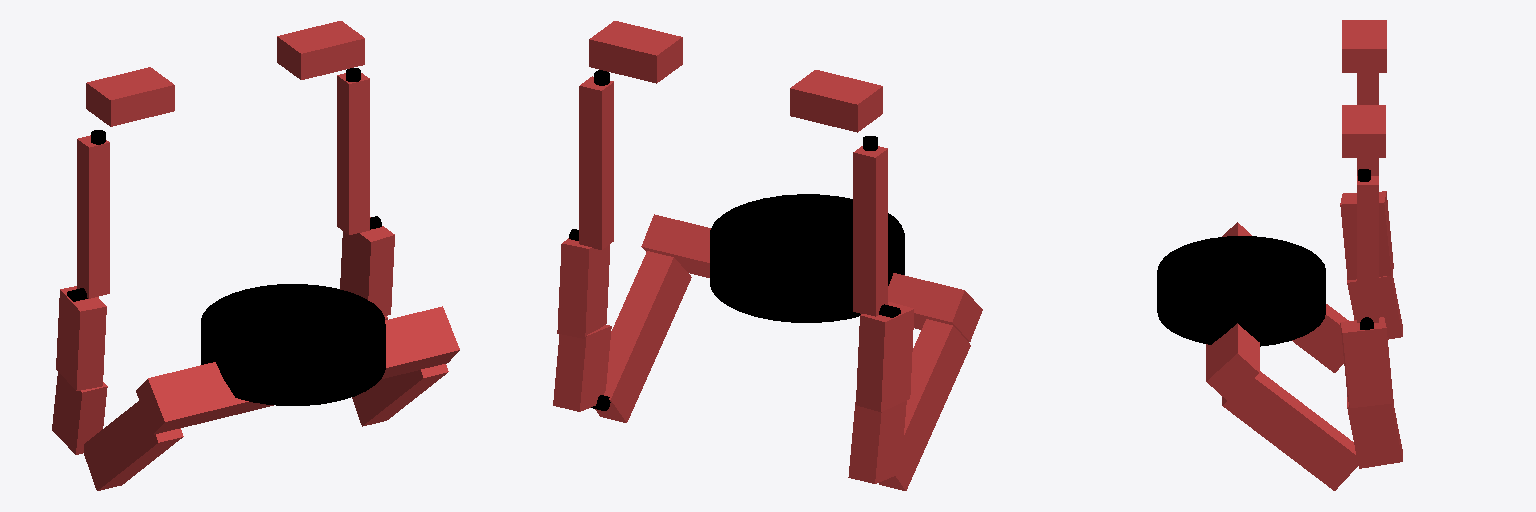
robot.urdf — guardianXO_v1:
<?xml version="1.0"?>
<robot name="guardianXO_v1">
  <link name="pelvis">
    <inertial>
      <origin rpy="0 -1.5708 0" xyz="0.00115 0.02425 0.00012"/>
      <mass value="12.8142"/>
      <inertia ixx="0.086831" ixy="-9.8e-05" ixz="-1.4e-06" iyy="0.12768" iyz="-0.019368" izz="0.12709"/>
    </inertial>
    <visual><!--pelvis_visual_box-->
      <origin rpy="0.7854 0 0" xyz="0 -0.02 0"/>
      <geometry>
        <box size="0.7 0.1 0.07"/>
      </geometry>
      <material name="XOred">
        <color rgba="0.8 0.3 0.3 0.3"/>
      </material>
    </visual>
    <visual><!--pelvis_visual_cylinder-->
      <origin rpy="0 0 0" xyz="0 0 0.05"/>
      <geometry>
        <cylinder length="0.1" radius="0.1905"/>
      </geometry>
      <material name="black">
        <color rgba="0 0 0 1"/>
      </material>
    </visual>
    </link>
  <link name="r_ushou">
    <inertial>
      <origin rpy="0 0 0" xyz="0.0164 0.0039 -0.19416"/>
      <mass value="4.8909"/>
      <inertia ixx="0.0017929" ixy="0.0017929" ixz="0.0046508" iyy="0.034874" iyz="0.0073972" izz="0.012524"/>
    </inertial>
    <visual><!--r_ushou_visual_jointCylinder-->
      <origin rpy="0 0 0" xyz="0 0 0"/>
      <geometry>
        <cylinder length="0.04" radius="0.015"/>
      </geometry>
      <material name="black">
        <color rgba="0 0 0 1"/>
      </material>
    </visual>
    <visual><!--r_ushou_visual_box-->
      <origin rpy="0 0 0" xyz="0 0 -0.16307"/>
      <geometry>
        <box size="0.06 0.1 0.3302"/>
      </geometry>
      <material name="XOred">
        <color rgba="0.8 0.3 0.3 0.3"/>
      </material>
    </visual>
    </link>
  <link name="r_lshou">
    <inertial>
      <origin rpy="0 0 0" xyz="0.11093 0.01825 0.02571"/>
      <mass value="3.2262"/>
      <inertia ixx="0.0042548" ixy="0.0002492" ixz="-0.0002769" iyy="0.0076126" iyz="-5.2e-05" izz="0.007705"/>
    </inertial>
    <visual><!--r_lshou_visual_jointCylinder-->
      <origin rpy="0 0 0" xyz="0 0 0"/>
      <geometry>
        <cylinder length="0.04" radius="0.015"/>
      </geometry>
      <material name="black">
        <color rgba="0 0 0 1"/>
      </material>
    </visual>
    <visual><!--r_lshou_visual_box-->
      <origin rpy="0 0 -0.087266" xyz="0.0772 0.024536 0.024638"/>
      <geometry>
        <box size="0.15494 0.1 0.06"/>
      </geometry>
      <material name="XOred">
        <color rgba="0.8 0.3 0.3 0.3"/>
      </material>
    </visual>
    </link>
  <link name="r_uarm">
    <inertial>
      <origin rpy="0 0 0" xyz="-0.00114 -0.00151 0.11122"/>
      <mass value="4.8829"/>
      <inertia ixx="0.019109" ixy="0.0001927" ixz="-0.0025684" iyy="0.018812" iyz="-0.0002236" izz="0.011074"/>
    </inertial>
    <visual><!--r_uarm_visual_jointCylinder-->
      <origin rpy="0 0 0" xyz="0 0 0"/>
      <geometry>
        <cylinder length="0.04" radius="0.015"/>
      </geometry>
      <material name="black">
        <color rgba="0 0 0 1"/>
      </material>
    </visual>
    <visual><!--r_uarm_visual_box-->
      <origin rpy="0 0 -0.087266" xyz="0 -0.0081788 0.09398"/>
      <geometry>
        <box size="0.06 0.1 0.18796"/>
      </geometry>
      <material name="XOred">
        <color rgba="0.8 0.3 0.3 0.3"/>
      </material>
    </visual>
    </link>
  <link name="r_larm">
    <inertial>
      <origin rpy="0 0 0" xyz="0.11918 -0.02395 -0.03337"/>
      <mass value="0.69113"/>
      <inertia ixx="0.0004628" ixy="0.0009098" ixz="-0.0004177" iyy="0.010386" iyz="-1.28e-05" izz="0.010507"/>
    </inertial>
    <visual><!--r_larm_visual_jointCylinder-->
      <origin rpy="0 0 0" xyz="0 0 0"/>
      <geometry>
        <cylinder length="0.04" radius="0.015"/>
      </geometry>
      <material name="black">
        <color rgba="0 0 0 1"/>
      </material>
    </visual>
    <visual><!--r_larm_visual_box-->
      <origin rpy="0 0 0" xyz="0.17145 0.003048 -0.03683"/>
      <geometry>
        <box size="0.3429 0.05 0.05"/>
      </geometry>
      <material name="XOred">
        <color rgba="0.8 0.3 0.3 0.3"/>
      </material>
    </visual>
    </link>
  <link name="r_hand">
    <inertial>
      <origin rpy="0 0 0" xyz="0.07931 0.00146 0.0648"/>
      <mass value="3.2281"/>
      <inertia ixx="0.016224" ixy="0.000437" ixz="0.0051128" iyy="0.039465" iyz="-0.0003224" izz="0.034758"/>
    </inertial>
    <visual><!--r_hand_visual_jointCylinder-->
      <origin rpy="0 0 0" xyz="0 0 0"/>
      <geometry>
        <cylinder length="0.04" radius="0.015"/>
      </geometry>
      <material name="black">
        <color rgba="0 0 0 1"/>
      </material>
    </visual>
    <visual><!--r_hand_visual_box-->
      <origin rpy="0 0 0" xyz="0.0762 0 0.083388"/>
      <geometry>
        <box size="0.1524 0.1 0.06"/>
      </geometry>
      <material name="XOred">
        <color rgba="0.8 0.3 0.3 0.3"/>
      </material>
    </visual>
    </link>
  <link name="l_ushou">
    <inertial>
      <origin rpy="0 0 0" xyz="0.01647 0.00381 0.19425"/>
      <mass value="4.8909"/>
      <inertia ixx="0.036159" ixy="0.0018219" ixz="-0.0046394" iyy="0.034888" iyz="-0.0074231" izz="0.012539"/>
    </inertial>
    <visual><!--l_ushou_visual_jointCylinder-->
      <origin rpy="0 0 0" xyz="0 0 0"/>
      <geometry>
        <cylinder length="0.04" radius="0.015"/>
      </geometry>
      <material name="black">
        <color rgba="0 0 0 1"/>
      </material>
    </visual>
    <visual><!--l_ushou_visual_box-->
      <origin rpy="0 0 0" xyz="0 0 0.16307"/>
      <geometry>
        <box size="0.06 0.1 0.3302"/>
      </geometry>
      <material name="XOred">
        <color rgba="0.8 0.3 0.3 0.3"/>
      </material>
    </visual>
    </link>
  <link name="l_lshou">
    <inertial>
      <origin rpy="0 0 0" xyz="0.11087 0.0182 -0.02557"/>
      <mass value="3.231"/>
      <inertia ixx="0.0042649" ixy="0.0002646" ixz="0.0002986" iyy="0.0076452" iyz="5.18e-05" izz="0.0077414"/>
    </inertial>
    <visual><!--l_lshou_visual_jointCylinder-->
      <origin rpy="0 0 0" xyz="0 0 0"/>
      <geometry>
        <cylinder length="0.04" radius="0.015"/>
      </geometry>
      <material name="black">
        <color rgba="0 0 0 1"/>
      </material>
    </visual>
    <visual><!--l_lshou_visual_box-->
      <origin rpy="0 0 -0.087266" xyz="0.0772 0.024536 -0.024638"/>
      <geometry>
        <box size="0.15494 0.1 0.06"/>
      </geometry>
      <material name="XOred">
        <color rgba="0.8 0.3 0.3 0.3"/>
      </material>
    </visual>
    </link>
  <link name="l_uarm">
    <inertial>
      <origin rpy="0 0 0" xyz="-0.00112 -0.00157 -0.11125"/>
      <mass value="4.8803"/>
      <inertia ixx="0.019132" ixy="0.0001585" ixz="0.0025749" iyy="0.018815" iyz="0.0002531" izz="0.011079"/>
    </inertial>
    <visual><!--l_uarm_visual_jointCylinder-->
      <origin rpy="0 0 0" xyz="0 0 0"/>
      <geometry>
        <cylinder length="0.04" radius="0.015"/>
      </geometry>
      <material name="black">
        <color rgba="0 0 0 1"/>
      </material>
    </visual>
    <visual><!--l_uarm_visual_box-->
      <origin rpy="0 0 -0.087266" xyz="0 -0.0081788 -0.09398"/>
      <geometry>
        <box size="0.06 0.1 0.18796"/>
      </geometry>
      <material name="XOred">
        <color rgba="0.8 0.3 0.3 0.3"/>
      </material>
    </visual>
    </link>
  <link name="l_larm">
    <inertial>
      <origin rpy="0 0 0" xyz="0.11918 -0.02395 0.0337"/>
      <mass value="0.69113"/>
      <inertia ixx="0.0004628" ixy="0.0009098" ixz="0.0004177" iyy="0.010386" iyz="1.28e-05" izz="0.010507"/>
    </inertial>
    <visual><!--l_larm_visual_jointCylinder-->
      <origin rpy="0 0 0" xyz="0 0 0"/>
      <geometry>
        <cylinder length="0.04" radius="0.015"/>
      </geometry>
      <material name="black">
        <color rgba="0 0 0 1"/>
      </material>
    </visual>
    <visual><!--l_larm_visual_box-->
      <origin rpy="0 0 0" xyz="0.17145 0.003048 0.03683"/>
      <geometry>
        <box size="0.3429 0.05 0.05"/>
      </geometry>
      <material name="XOred">
        <color rgba="0.8 0.3 0.3 0.3"/>
      </material>
    </visual>
    </link>
  <link name="l_hand">
    <inertial>
      <origin rpy="0 0 0" xyz="0.07931 0.00146 -0.0648"/>
      <mass value="3.231"/>
      <inertia ixx="0.015967" ixy="0.0002098" ixz="-0.0057656" iyy="0.039945" iyz="0.0002799" izz="0.034993"/>
    </inertial>
    <visual><!--l_hand_visual_jointCylinder-->
      <origin rpy="0 0 0" xyz="0 0 0"/>
      <geometry>
        <cylinder length="0.04" radius="0.015"/>
      </geometry>
      <material name="black">
        <color rgba="0 0 0 1"/>
      </material>
    </visual>
    <visual><!--l_hand_visual_box-->
      <origin rpy="0 0 0" xyz="0.0762 0 -0.083388"/>
      <geometry>
        <box size="0.1524 0.1 0.06"/>
      </geometry>
      <material name="XOred">
        <color rgba="0.8 0.3 0.3 0.3"/>
      </material>
    </visual>
    </link>
  <link name="l_hand_FT">
    <inertial>
      <origin rpy="0 0 1.7453e-05" xyz="0 0 0"/>
      <mass value="0.001"/>
      <inertia ixx="0.001" ixy="0" ixz="0" iyy="0.001" iyz="0" izz="0.001"/>
    </inertial>
    </link>
  <link name="r_hand_FT">
    <inertial>
      <origin rpy="0 0 1.7453e-05" xyz="0 0 0"/>
      <mass value="0.001"/>
      <inertia ixx="0.001" ixy="0" ixz="0" iyy="0.001" iyz="0" izz="0.001"/>
    </inertial>
    </link>
  <joint name="ra1_sho_abad" type="revolute">
    <axis xyz="0 0 1"/>
    <origin rpy="-0.87266 0 3.1416" xyz="-0.31433 -0.0097288 -0.036922"/>
    <parent link="pelvis"/>
    <child link="r_ushou"/>
    <limit effort="100" lower="-0.17453" upper="2.0944" velocity="12"/>
    <dynamics damping="0.1" friction="0"/>
  </joint>
  <joint name="ra2_sho_flex" type="revolute">
    <axis xyz="0 0 1"/>
    <origin rpy="-1.5708 -0.7854 -1.5708" xyz="-0.00635 -0.0508 -0.33884"/>
    <parent link="r_ushou"/>
    <child link="r_lshou"/>
    <limit effort="100" lower="-0.47647" upper="2.0944" velocity="12"/>
    <dynamics damping="0.1" friction="0"/>
  </joint>
  <joint name="ra3_hum_rota" type="revolute">
    <axis xyz="0 0 1"/>
    <origin rpy="0 1.5708 0" xyz="0.1524 0.029642 0.030912"/>
    <parent link="r_lshou"/>
    <child link="r_uarm"/>
    <limit effort="100" lower="-1.3963" upper="0.87266" velocity="12"/>
    <dynamics damping="0.1" friction="0"/>
  </joint>
  <joint name="ra4_elb_flex" type="revolute">
    <axis xyz="0 0 1"/>
    <origin rpy="-1.5708 -1.4835 1.5708" xyz="-0.00635 0 0.1892"/>
    <parent link="r_uarm"/>
    <child link="r_larm"/>
    <limit effort="100" lower="0" upper="2.6704" velocity="12"/>
    <dynamics damping="0.1" friction="0"/>
  </joint>
  <joint name="ra5_wri_rota" type="revolute">
    <axis xyz="0 0 1"/>
    <origin rpy="0 1.5708 0" xyz="0.3429 -0.006096 -0.042977"/>
    <parent link="r_larm"/>
    <child link="r_hand"/>
    <limit effort="100" lower="-1.5708" upper="1.5708" velocity="10"/>
    <dynamics damping="0.1" friction="0"/>
  </joint>
  <joint name="la1_sho_abad" type="revolute">
    <axis xyz="0 0 1"/>
    <origin rpy="-2.2689 0 0" xyz="0.31433 -0.0097288 -0.036922"/>
    <parent link="pelvis"/>
    <child link="l_ushou"/>
    <limit effort="100" lower="-0.17453" upper="2.0944" velocity="12"/>
    <dynamics damping="0.1" friction="0"/>
  </joint>
  <joint name="la2_sho_flex" type="revolute">
    <axis xyz="0 0 1"/>
    <origin rpy="1.5708 0.7854 -1.5708" xyz="-0.00635 -0.0508 0.33884"/>
    <parent link="l_ushou"/>
    <child link="l_lshou"/>
    <limit effort="100" lower="-0.47647" upper="2.0944" velocity="12"/>
    <dynamics damping="0.1" friction="0"/>
  </joint>
  <joint name="la3_hum_rota" type="revolute">
    <axis xyz="0 0 1"/>
    <origin rpy="0 -1.5708 0" xyz="0.1524 0.029642 -0.030912"/>
    <parent link="l_lshou"/>
    <child link="l_uarm"/>
    <limit effort="100" lower="-1.3963" upper="0.87266" velocity="12"/>
    <dynamics damping="0.1" friction="0"/>
  </joint>
  <joint name="la4_elb_flex" type="revolute">
    <axis xyz="0 0 1"/>
    <origin rpy="1.5708 1.4835 1.5708" xyz="-0.00635 0 -0.1892"/>
    <parent link="l_uarm"/>
    <child link="l_larm"/>
    <limit effort="100" lower="0" upper="2.6704" velocity="12"/>
    <dynamics damping="0.1" friction="0"/>
  </joint>
  <joint name="la5_wri_rota" type="revolute">
    <axis xyz="0 0 1"/>
    <origin rpy="0 -1.5708 0" xyz="0.3429 -0.006096 0.042977"/>
    <parent link="l_larm"/>
    <child link="l_hand"/>
    <limit effort="100" lower="-1.5708" upper="1.5708" velocity="10"/>
    <dynamics damping="0.1" friction="0"/>
  </joint>
  <joint name="ft3_l_hand" type="revolute">
    <axis xyz="0 0 1"/>
    <origin rpy="1.5708 1.5708 0" xyz="0 0 -0.0834"/>
    <parent link="l_hand"/>
    <child link="l_hand_FT"/>
    <limit effort="200" lower="-0.005" upper="0.005" velocity="3"/>
    <dynamics damping="0.1" friction="0"/>
  </joint>
  <joint name="ft4_r_hand" type="revolute">
    <axis xyz="0 0 1"/>
    <origin rpy="-1.5708 1.5708 0" xyz="0 0 -0.0834"/>
    <parent link="r_hand"/>
    <child link="r_hand_FT"/>
    <limit effort="200" lower="-0.005" upper="0.005" velocity="4"/>
    <dynamics damping="0.1" friction="0"/>
  </joint>
  </robot>

--- What the picture shows (computed from the rendered views, not written in the file) ---
Views: 3 orthographic renders of the robot side by side, from view 1: azimuth 30°, elevation 25°; view 2: azimuth 150°, elevation 25°; view 3: azimuth 270°, elevation 25°.
Model guardianXO_v1 with 13 links and 12 joints (12 revolute), rooted at pelvis, posed all joints at 0.
Visible links, largest first — view 1: pelvis, r_larm, l_larm, r_ushou, r_uarm, r_hand, l_hand, l_uarm, r_lshou, l_ushou; view 2: pelvis, l_ushou, r_larm, r_ushou, l_larm, r_uarm, l_hand, r_hand, l_uarm, l_lshou, r_lshou; view 3: pelvis, l_ushou, l_uarm, l_larm, l_lshou, l_hand, r_hand, r_uarm, r_ushou, r_lshou, r_larm.
Boxes of the visible links, x1=… form: pelvis: x1=136, y1=284, x2=459, y2=434; r_larm: x1=67, y1=135, x2=109, y2=301; l_larm: x1=337, y1=73, x2=381, y2=234; r_ushou: x1=84, y1=401, x2=183, y2=490; r_uarm: x1=56, y1=286, x2=106, y2=390; r_hand: x1=86, y1=67, x2=174, y2=144; l_hand: x1=277, y1=21, x2=364, y2=81; l_uarm: x1=340, y1=217, x2=394, y2=316; r_lshou: x1=52, y1=372, x2=107, y2=454; l_ushou: x1=352, y1=364, x2=448, y2=426; pelvis: x1=641, y1=194, x2=982, y2=341; l_ushou: x1=595, y1=251, x2=691, y2=422; r_larm: x1=853, y1=146, x2=900, y2=317; r_ushou: x1=879, y1=319, x2=970, y2=490; l_larm: x1=569, y1=76, x2=613, y2=249; r_uarm: x1=856, y1=302, x2=913, y2=411; l_hand: x1=589, y1=21, x2=682, y2=85; r_hand: x1=790, y1=70, x2=882, y2=150; l_uarm: x1=557, y1=238, x2=609, y2=338; l_lshou: x1=553, y1=325, x2=611, y2=411; r_lshou: x1=848, y1=401, x2=906, y2=483; pelvis: x1=1157, y1=222, x2=1325, y2=400; l_ushou: x1=1222, y1=371, x2=1357, y2=490; l_uarm: x1=1340, y1=317, x2=1393, y2=407; l_larm: x1=1357, y1=176, x2=1378, y2=329; l_lshou: x1=1347, y1=397, x2=1402, y2=468; l_hand: x1=1342, y1=105, x2=1385, y2=181; r_hand: x1=1342, y1=20, x2=1386, y2=72; r_uarm: x1=1340, y1=191, x2=1393, y2=279; r_ushou: x1=1292, y1=304, x2=1348, y2=372; r_lshou: x1=1347, y1=273, x2=1402, y2=339; r_larm: x1=1357, y1=73, x2=1378, y2=175.
Bounding box of the posed robot: 0.7463 × 0.5534 × 0.8695 m (x, y, z).
Geometry: primitives only (box / cylinder / sphere), no mesh files.